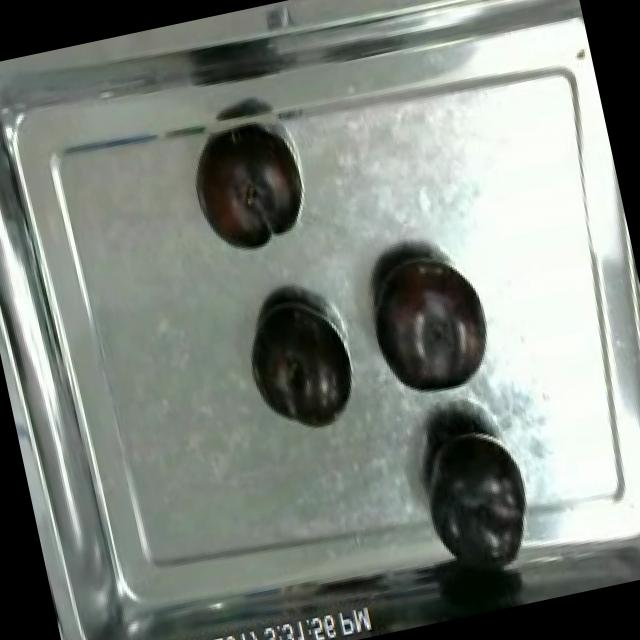Fruit: (357, 237, 505, 408), (404, 406, 544, 580), (235, 284, 364, 444), (181, 118, 307, 260), (429, 556, 532, 622), (466, 0, 578, 17)
